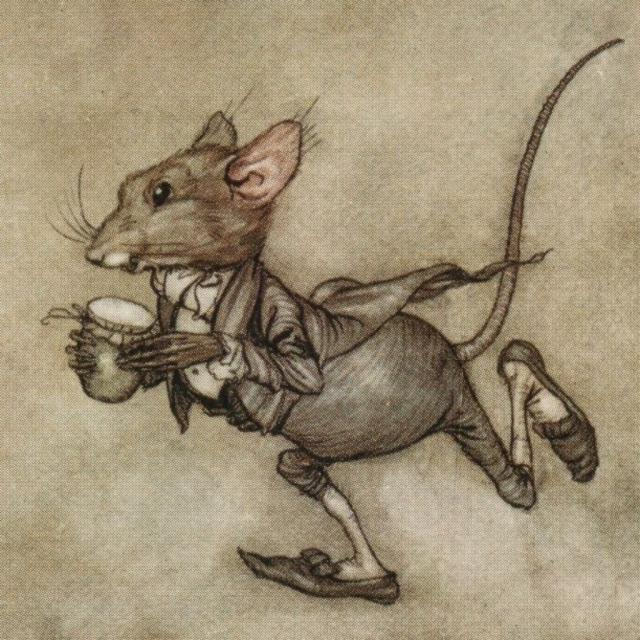rat: (38, 36, 623, 605)
